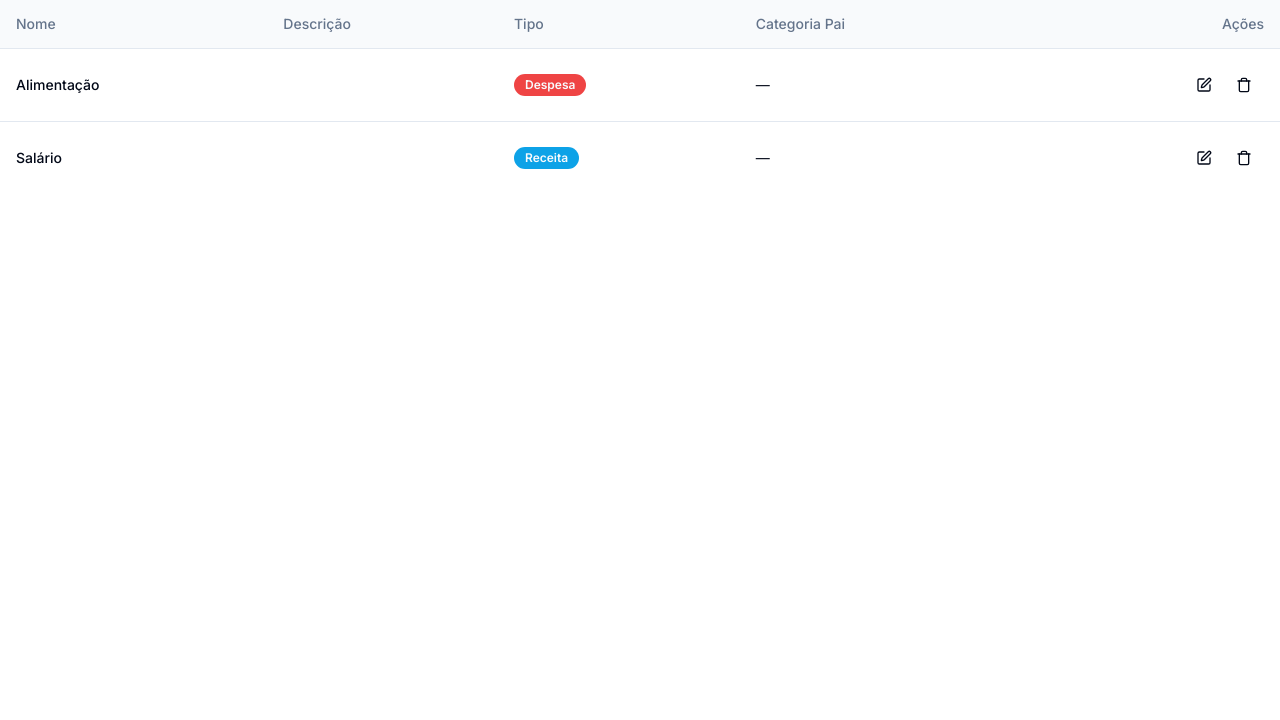
it: CategoryList › deve abrir diálogo de exclusão ao clicar em excluir
// Click the first delete button (desktop or mobile)
Click the button named "Excluir Alimentação" at (1244, 84), box [1224,64,1264,104]
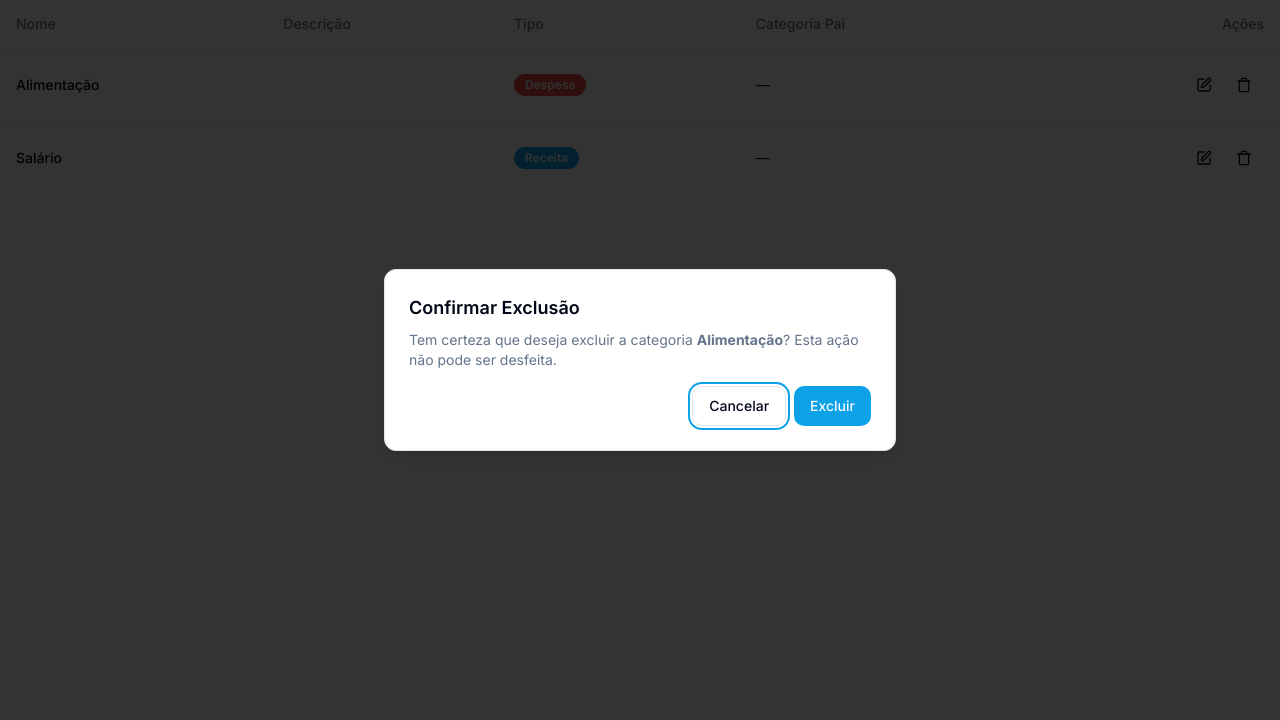
Expected: the heading "Confirmar Exclusão" is shown, [409,297,580,318]
